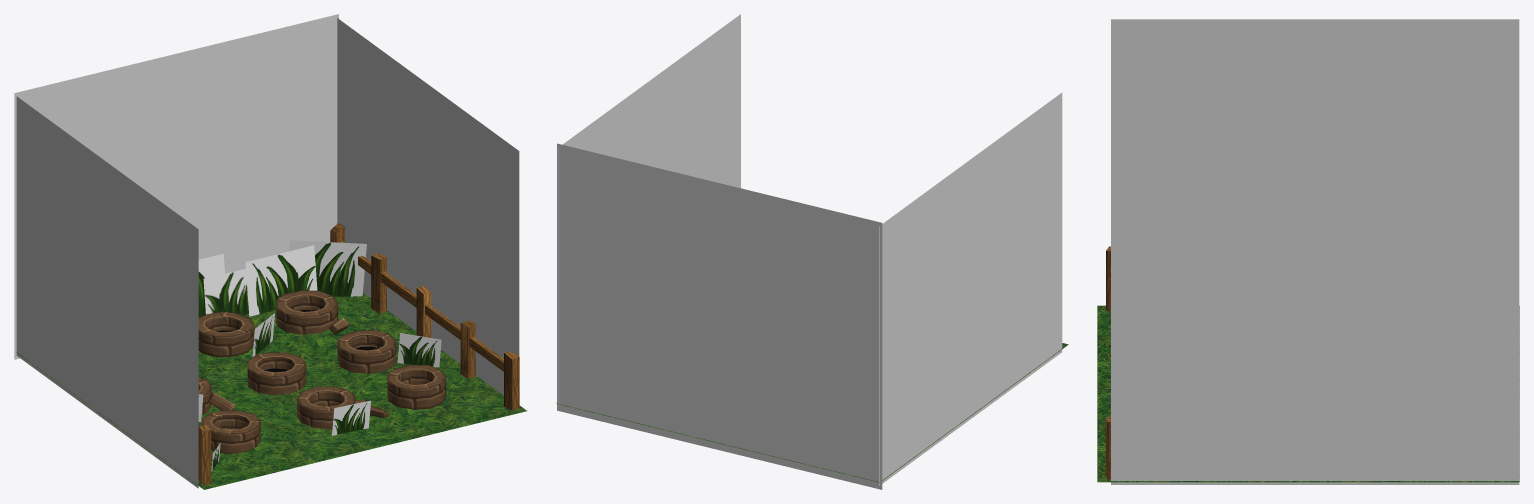
File: map.fbx
3 views of the same model, side by side, from view 1: azimuth 30°, elevation 25°; view 2: azimuth 150°, elevation 25°; view 3: azimuth 270°, elevation 25° (orthographic). The views are drawn at different scales.
Visible parts, largest first — view 1: Plane_3, Plane_1, Plane_2, Plane, Plane_11, Plane_7, Tube, Tube_3, Tube_6, Tube_2, Tube_5, Tube_9 (+11 smaller); view 2: Plane_3, Plane_1, Plane_2, Plane; view 3: Plane_2, Plane_1, Plane.
Part boxes in pixels (x1=…): Plane_3: x1=14, y1=14, x2=338, y2=359; Plane_1: x1=16, y1=96, x2=198, y2=488; Plane_2: x1=337, y1=18, x2=519, y2=395; Plane: x1=16, y1=293, x2=526, y2=489; Plane_11: x1=245, y1=245, x2=317, y2=316; Plane_7: x1=289, y1=240, x2=366, y2=296; Tube: x1=276, y1=290, x2=338, y2=334; Tube_3: x1=387, y1=364, x2=446, y2=409; Tube_6: x1=198, y1=311, x2=254, y2=356; Tube_2: x1=337, y1=330, x2=396, y2=373; Tube_5: x1=247, y1=352, x2=306, y2=394; Tube_9: x1=201, y1=410, x2=260, y2=453; Plane_3: x1=557, y1=143, x2=882, y2=489; Plane_1: x1=879, y1=92, x2=1062, y2=485; Plane_2: x1=558, y1=14, x2=740, y2=406; Plane: x1=556, y1=343, x2=1068, y2=482; Plane_2: x1=1111, y1=194, x2=1519, y2=484; Plane_1: x1=1111, y1=19, x2=1519, y2=194; Plane: x1=1097, y1=305, x2=1519, y2=482.
Bounding box in the file's own units: 412 × 331 × 414.
5 materials, 4 textured.
